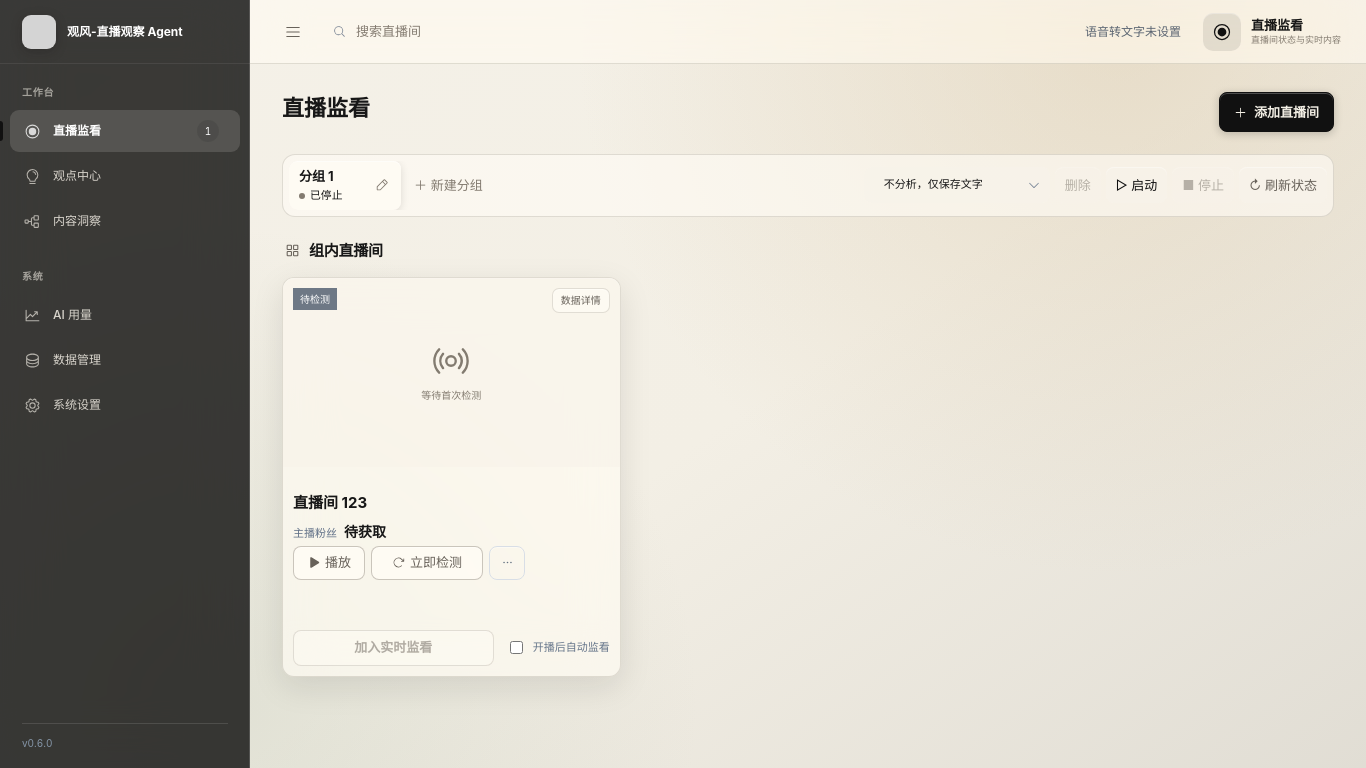
Test: room form › uses main-process progress and starts cooldown only after completion
Click the button with aria-label "立即检测直播状态": (427, 562) [371,546,483,580]
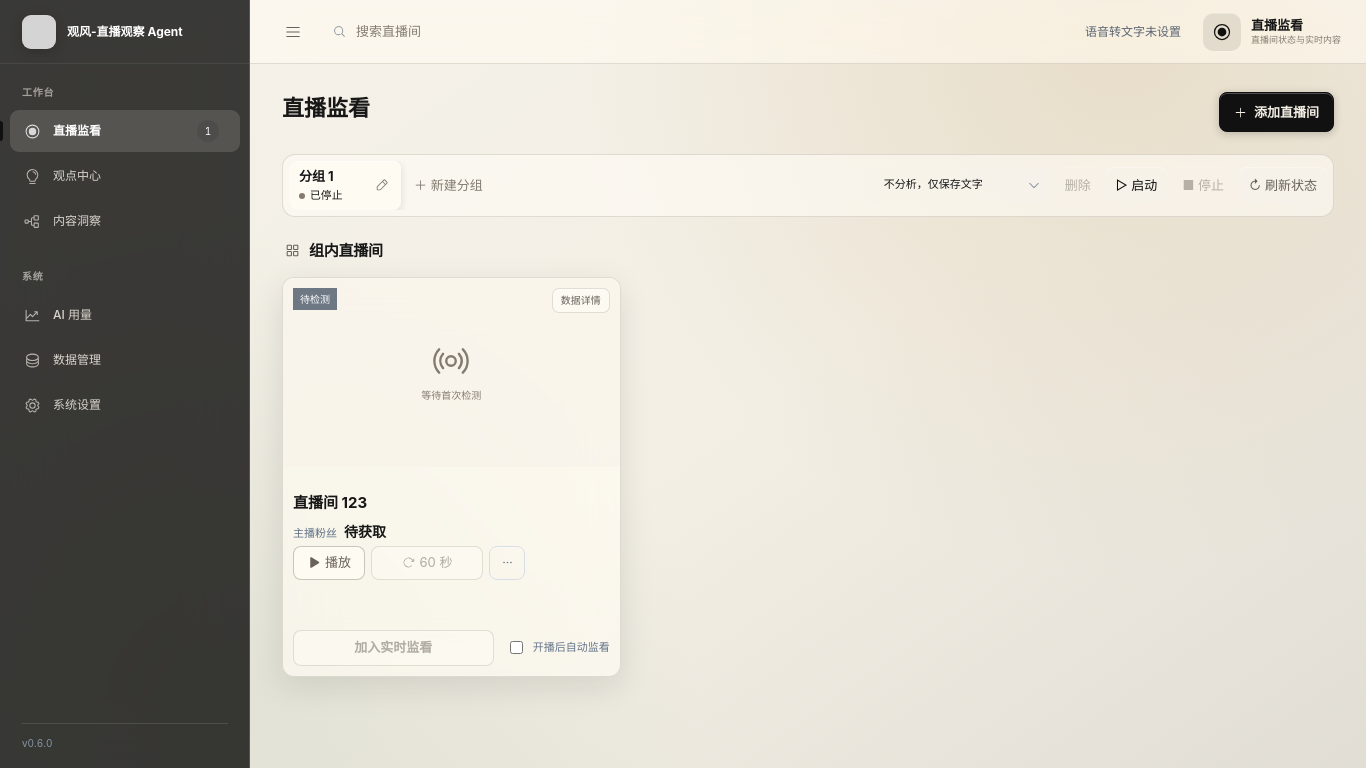
Now the button named "正在检测" is disabled, box [371,546,483,580]
Now the button named "60 秒后可再次检测" is disabled, box [371,546,483,580]
